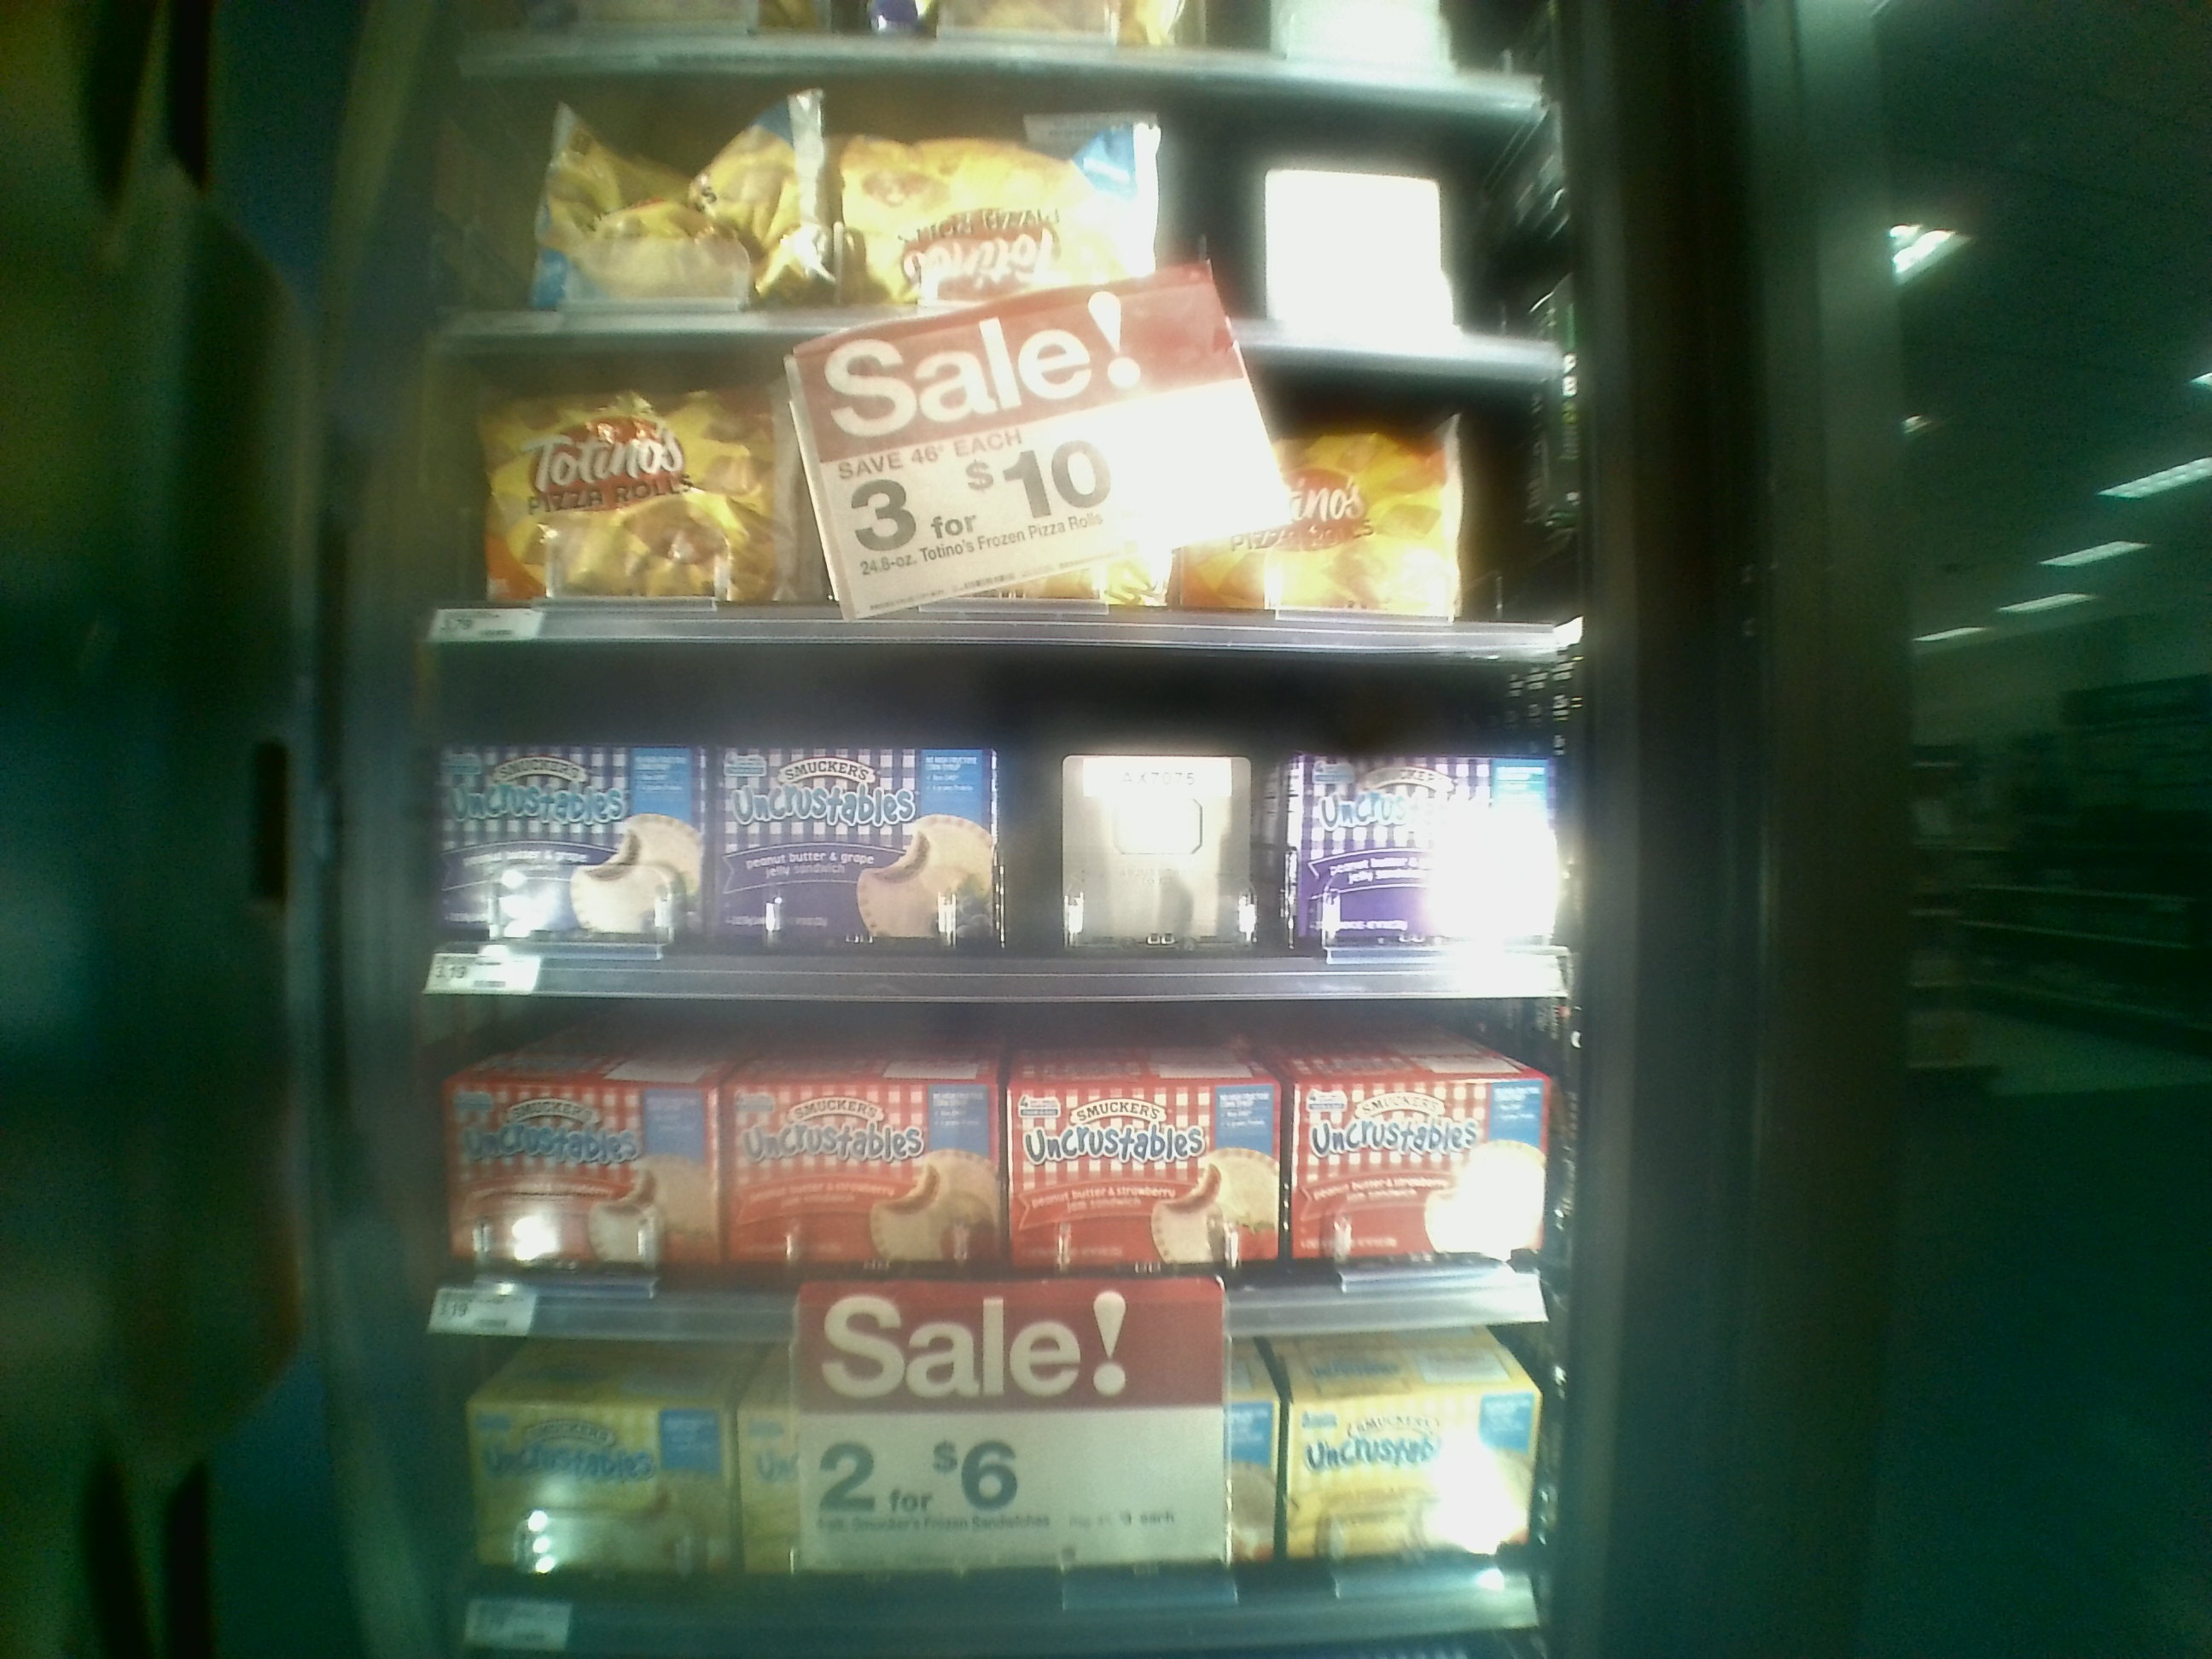shelf: (408, 647, 1578, 1004), (399, 995, 1575, 1340), (444, 68, 1583, 380), (418, 354, 1583, 657), (420, 1342, 1564, 1645)
